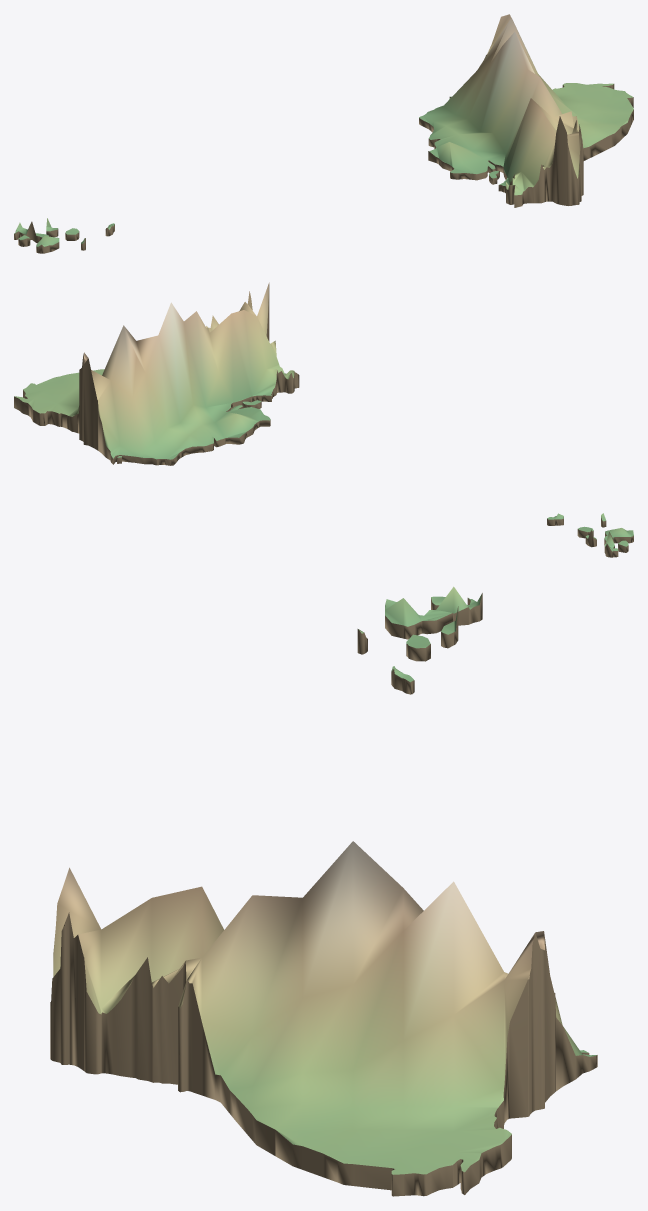
Rendered from ECU.glb.
The picture shows the model from 3 angles, top to bottom: view 1: azimuth 30°, elevation 25°; view 2: azimuth 150°, elevation 25°; view 3: azimuth 270°, elevation 25°; orthographic projection. The views are drawn at different scales.
Parts seen in each view (by area): view 1: ECU; view 2: ECU; view 3: ECU.
Boxes of the visible parts, x1=… form: ECU: x1=14, y1=14, x2=633, y2=253; ECU: x1=14, y1=282, x2=633, y2=557; ECU: x1=50, y1=586, x2=597, y2=1196.
Bounding box in the file's own units: 1.85 × 0.338 × 0.7281.
